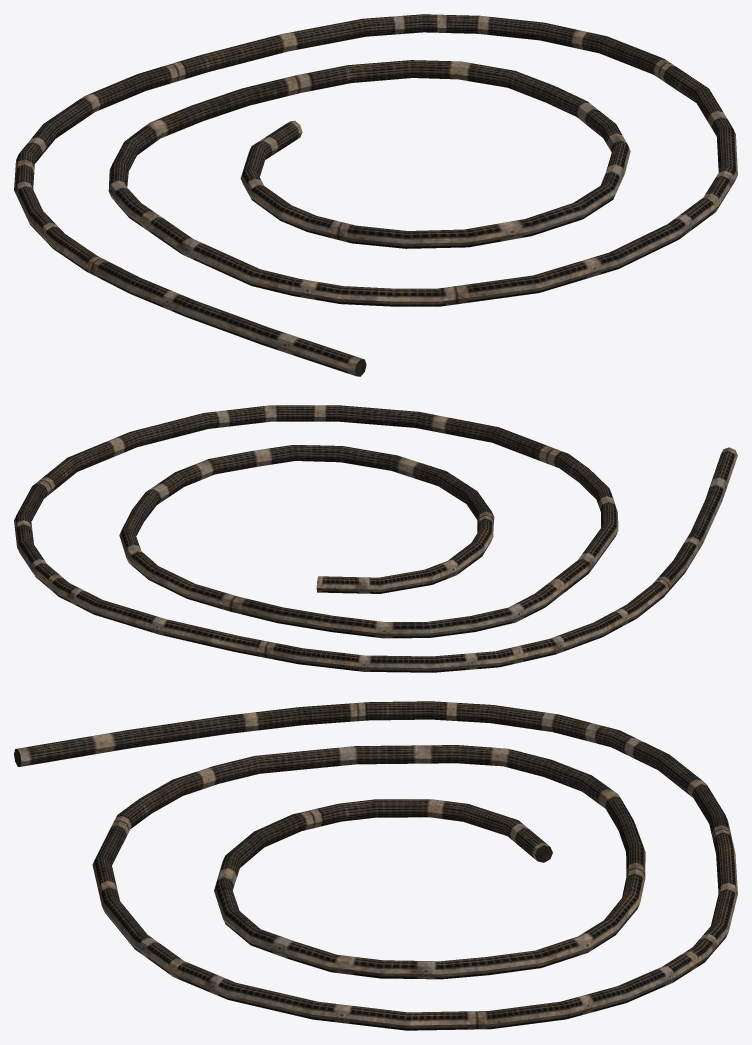
Rendered from cable.fbx.
3 renders of one model, top to bottom at view 1: azimuth 30°, elevation 25°; view 2: azimuth 150°, elevation 25°; view 3: azimuth 270°, elevation 25°, orthographic. The views are drawn at different scales.
Parts seen in each view (by area): view 1: Mesh; view 2: Mesh; view 3: Mesh.
Boxes of the visible parts, left/top/right/bottom form: Mesh: left=14, top=14, right=737, bottom=376; Mesh: left=14, top=405, right=737, bottom=672; Mesh: left=14, top=701, right=737, bottom=1030.
Bounding box in the file's own units: 116 × 3 × 111.
